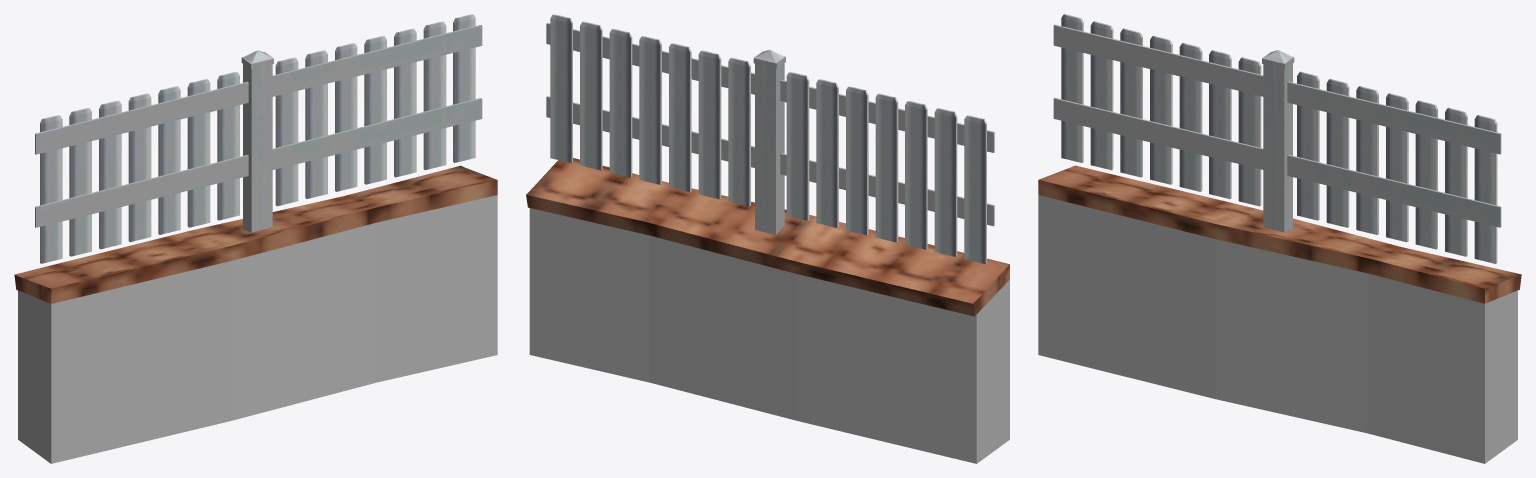
The model's file is plaster_wall_fenced.fbx.
3 renders of one model, left to right at view 1: azimuth 30°, elevation 25°; view 2: azimuth 150°, elevation 25°; view 3: azimuth 330°, elevation 25°, orthographic.
Visible parts, largest first — view 1: Body; view 2: Body; view 3: Body.
Part boxes in pixels (left/top/right/bottom): Body: left=14, top=14, right=497, bottom=463; Body: left=526, top=14, right=1009, bottom=463; Body: left=1038, top=14, right=1521, bottom=463.
Size of the model in its own units: 200 by 148 by 30.
